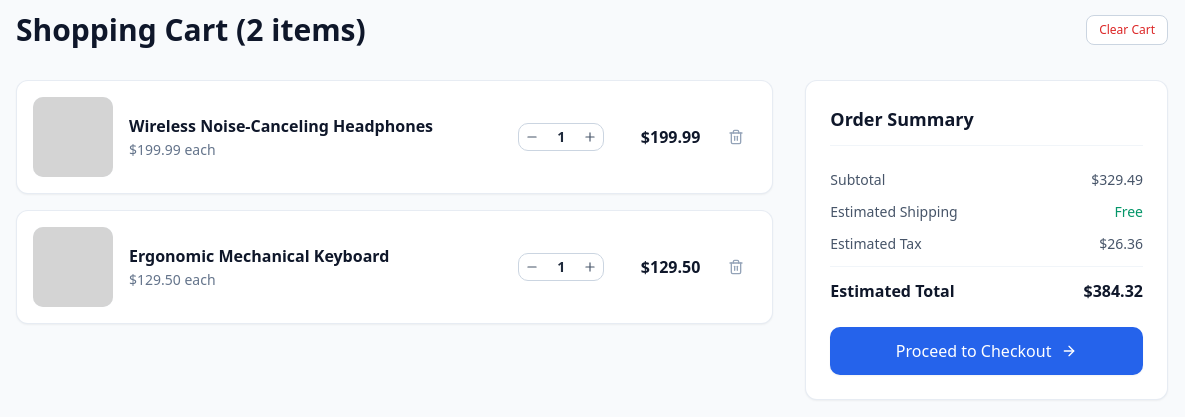
CartPage Component › clears entire cart when "Clear Cart" is clicked
The image size is (1185, 417).
Click the button with test id "clear-cart-btn": (1127, 30) [1086,15,1168,45]
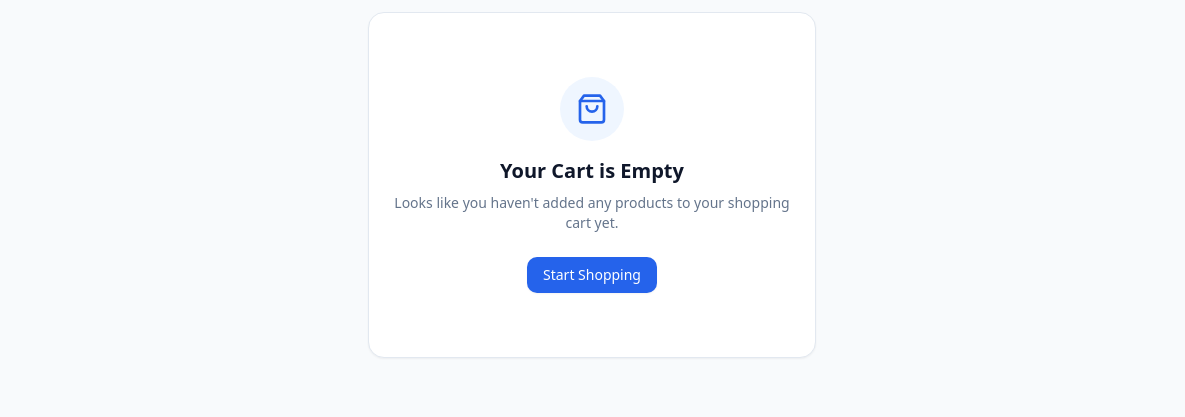
Result: the element with test id "empty-cart-state" is shown at [368,12,816,358]
